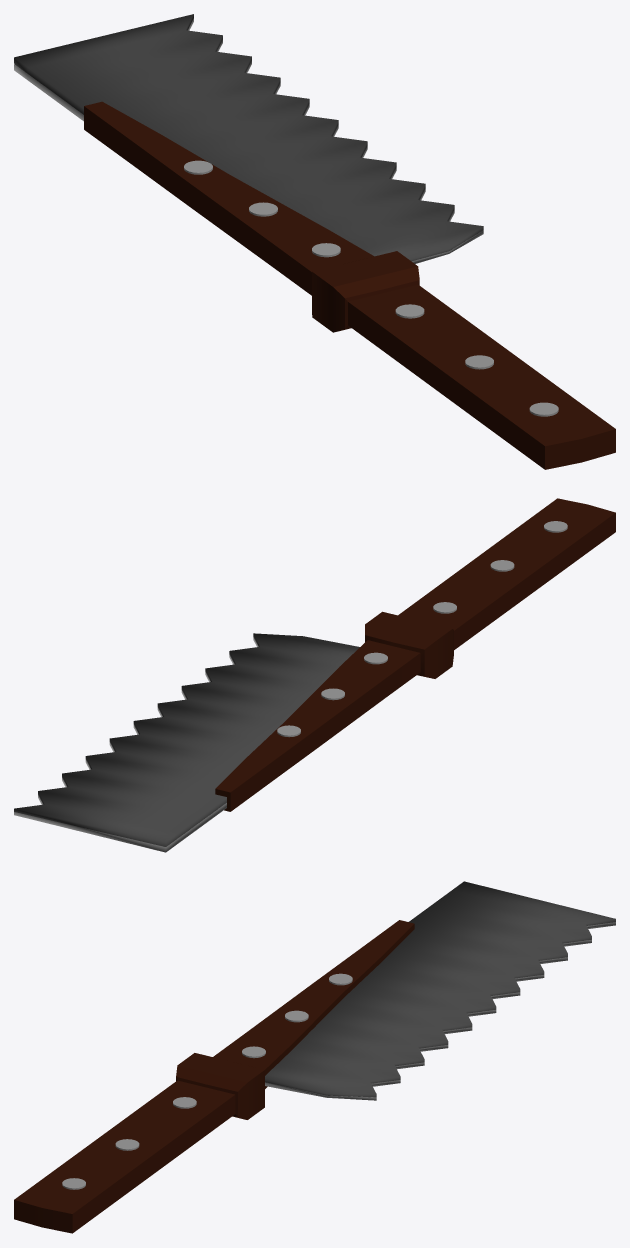
Rendered from MSH_Cuchillo.FBX.
3 renders of one model, top to bottom at view 1: azimuth 30°, elevation 25°; view 2: azimuth 150°, elevation 25°; view 3: azimuth 330°, elevation 25°, orthographic. The views are drawn at different scales.
Parts seen in each view (by area): view 1: MSH_cUCHILLO; view 2: MSH_cUCHILLO; view 3: MSH_cUCHILLO.
Boxes of the visible parts, x1,y1,x2,y2 form: MSH_cUCHILLO: [14, 14, 615, 469]; MSH_cUCHILLO: [14, 498, 615, 852]; MSH_cUCHILLO: [14, 881, 615, 1233].
Size of the model in its own units: 1.52 by 0.3381 by 7.27.
